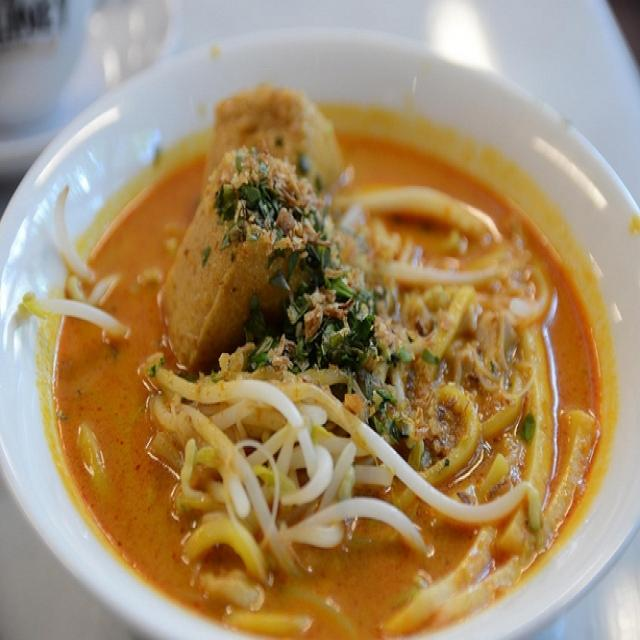面条主食: (22, 36, 629, 618)
